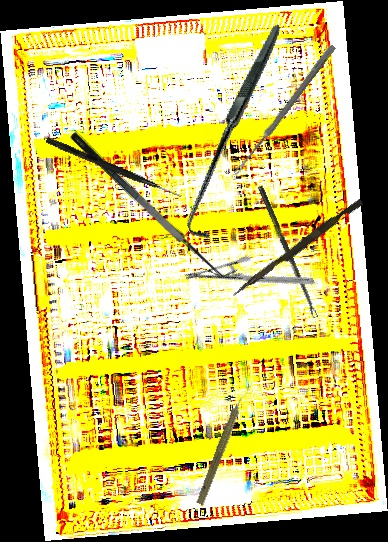Handpiece: (194, 387, 252, 508)
Hook Surgical: (125, 23, 349, 245), (44, 136, 184, 200)
Needle Holder: (183, 222, 316, 335)
Pusher: (231, 195, 364, 302)
Spatula Surgical: (68, 118, 239, 289)
Surgical Spoon: (232, 43, 337, 177), (256, 185, 319, 319)
